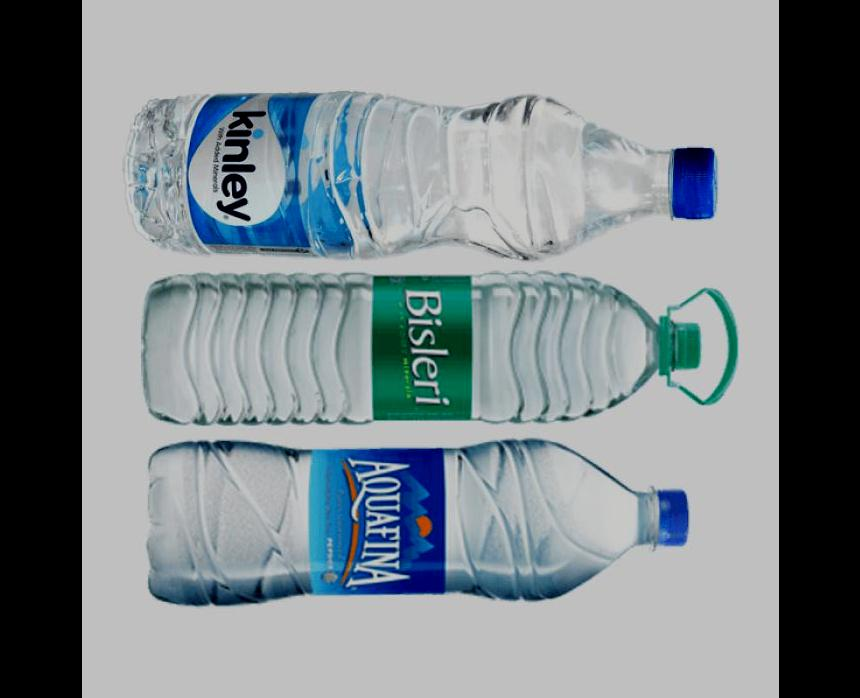bottle: (113, 85, 718, 263), (138, 434, 708, 610), (139, 274, 750, 432)
